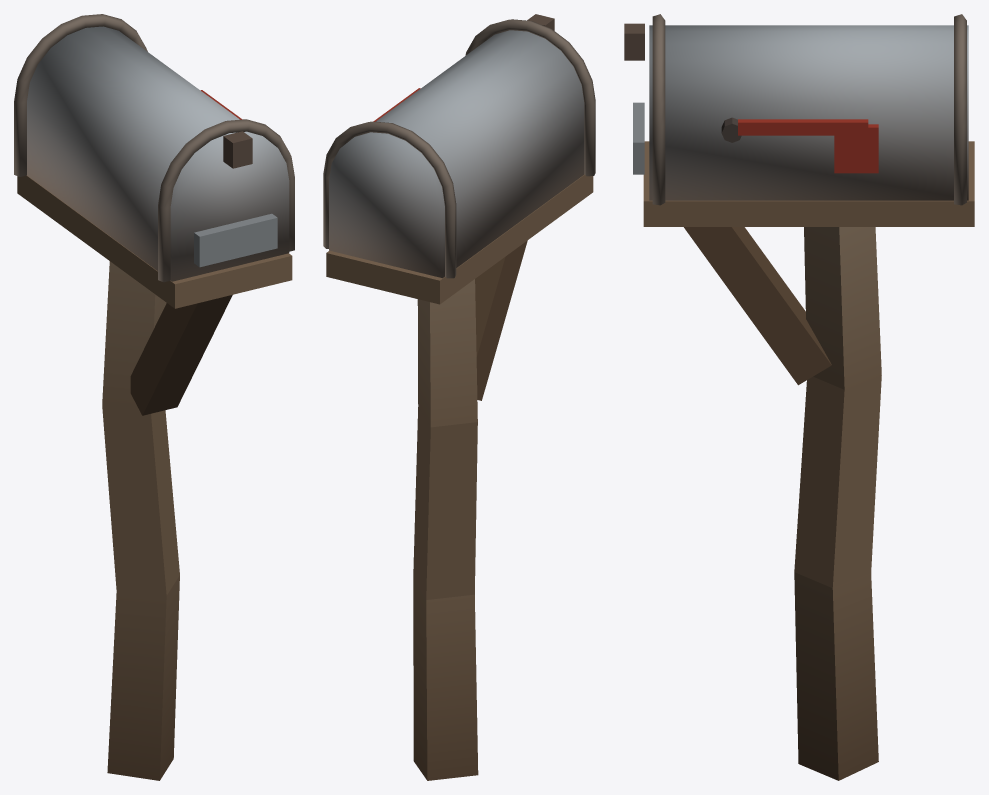
Rendered from mailbox.glb.
The picture shows the model from 3 angles, left to right: view 1: azimuth 30°, elevation 25°; view 2: azimuth 150°, elevation 25°; view 3: azimuth 270°, elevation 25°; orthographic projection. The views are drawn at different scales.
Visible parts, largest first — view 1: mailbox; view 2: mailbox; view 3: mailbox.
Part boxes in pixels (left/top/right/bottom): mailbox: left=14, top=14, right=294, bottom=780; mailbox: left=323, top=14, right=595, bottom=780; mailbox: left=624, top=14, right=974, bottom=780.
Bounding box in the file's own units: 0.2936 × 1.39 × 0.5925.
